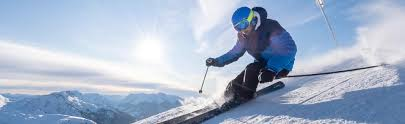skis: (160, 76, 285, 124)
